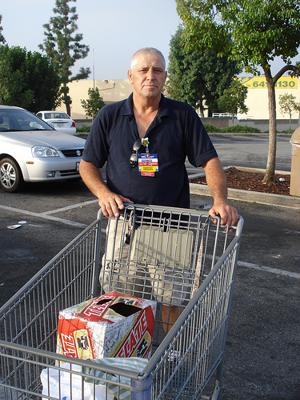person: (77, 44, 240, 363)
